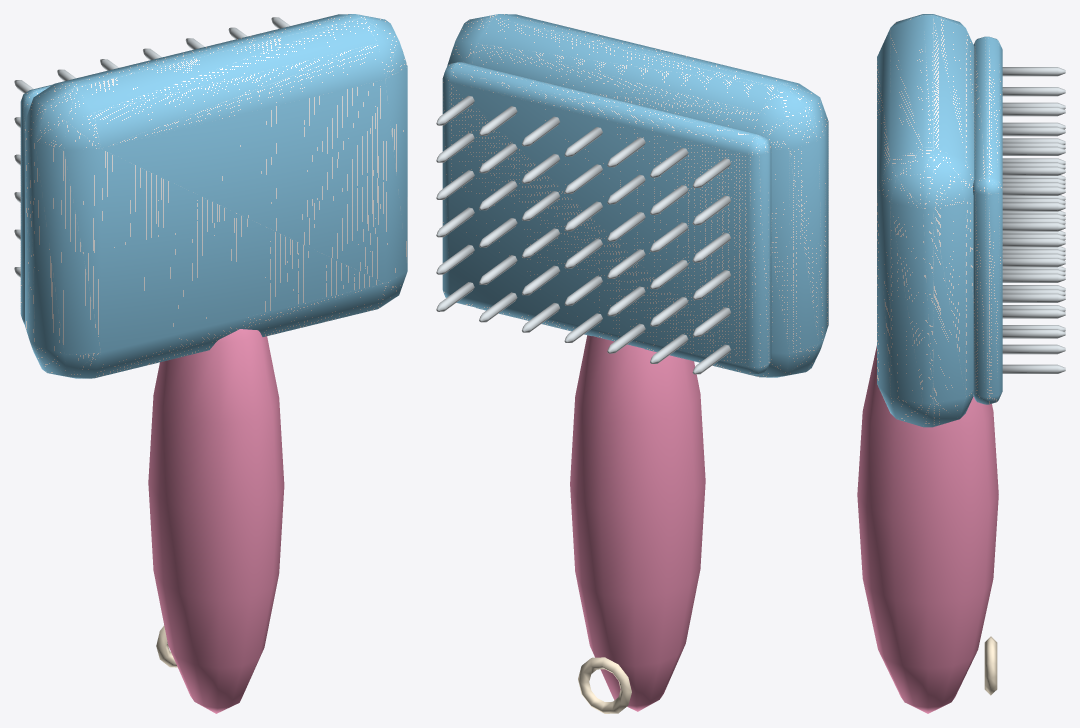
Rendered from brush_slicker.glb.
3 views of the same model, side by side, from view 1: azimuth 30°, elevation 25°; view 2: azimuth 150°, elevation 25°; view 3: azimuth 270°, elevation 25° (orthographic). The views are drawn at different scales.
Visible parts, largest first — view 1: Body; view 2: Body; view 3: Body.
Boxes of the visible parts, x1,y1,x2,y2 form: Body: (14,14,407,713); Body: (436,14,828,713); Body: (857,14,1065,713).
Bounding box in the file's own units: 0.1161 × 0.2 × 0.0597.
4 materials, 4 textured.
